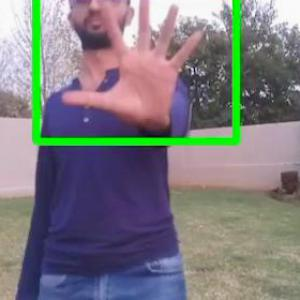follow_hand: (57, 0, 211, 134)
